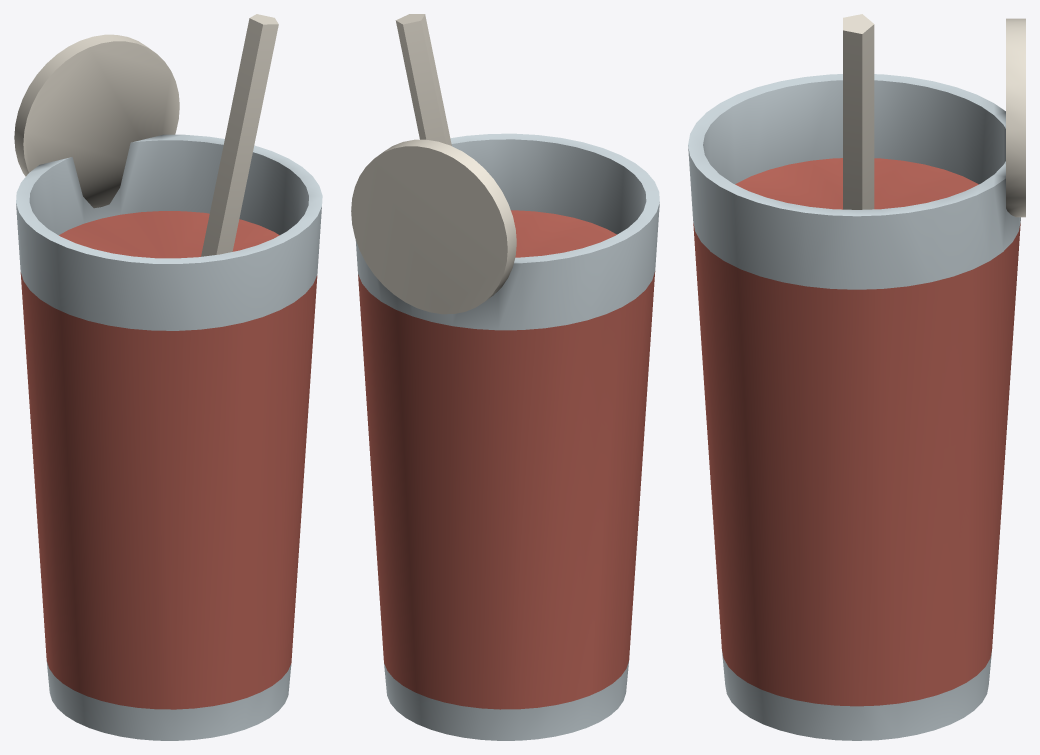
The model's file is meal_glass.glb.
The picture shows the model from 3 angles, left to right: view 1: azimuth 30°, elevation 25°; view 2: azimuth 150°, elevation 25°; view 3: azimuth 270°, elevation 25°; orthographic projection. The views are drawn at different scales.
Visible parts, largest first — view 1: PART; view 2: PART; view 3: PART.
Part boxes in pixels (x1=…): PART: x1=14, y1=14, x2=322, y2=740; PART: x1=351, y1=14, x2=659, y2=740; PART: x1=688, y1=14, x2=1025, y2=740.
Size of the model in its own units: 0.068 by 0.1589 by 0.068.
